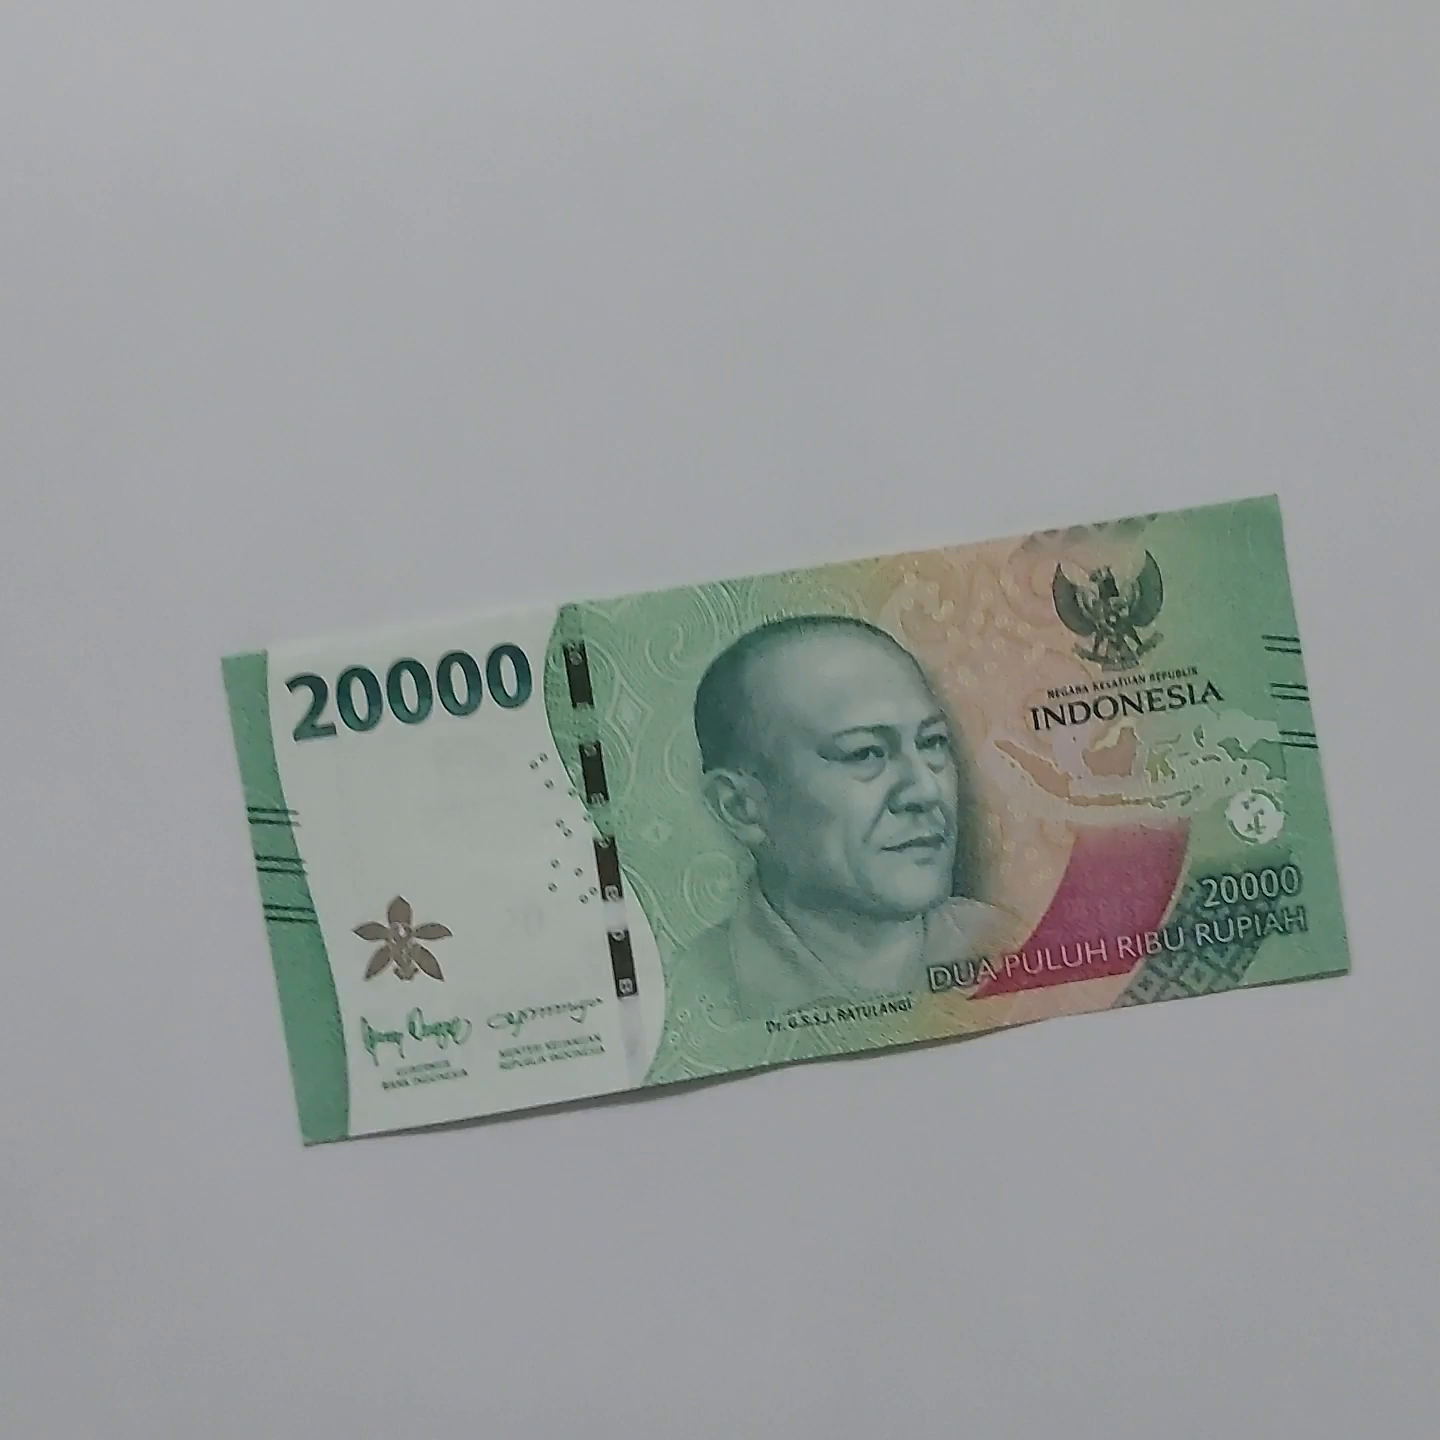20k: (212, 657, 1336, 1166)
